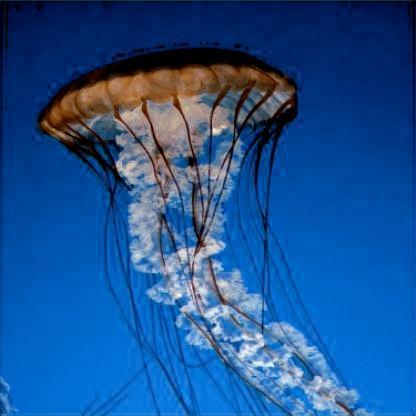Dressed: (39, 51, 339, 403)
